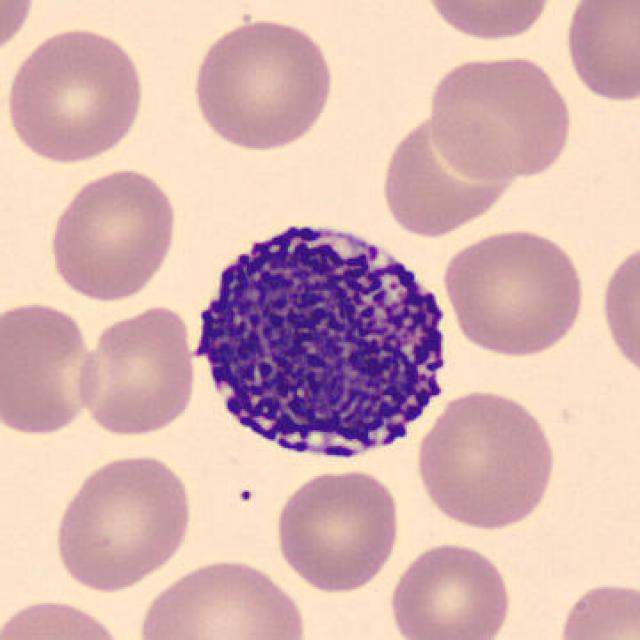Basophil: (180, 204, 464, 478)
RBC: (412, 386, 560, 533), (186, 13, 338, 154), (2, 21, 148, 166), (50, 450, 196, 594), (425, 50, 576, 184), (441, 224, 588, 360), (45, 164, 182, 303), (270, 466, 404, 594), (75, 301, 199, 439), (133, 553, 312, 640), (0, 298, 103, 439), (385, 537, 515, 640), (560, 0, 638, 106), (418, 0, 560, 44), (0, 594, 133, 640), (598, 236, 638, 386), (552, 576, 638, 640), (0, 0, 39, 65)
